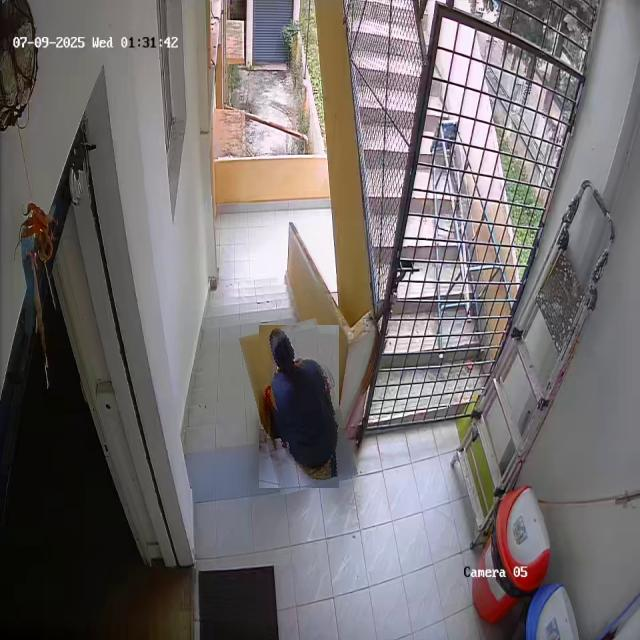person: (249, 321, 349, 492)
